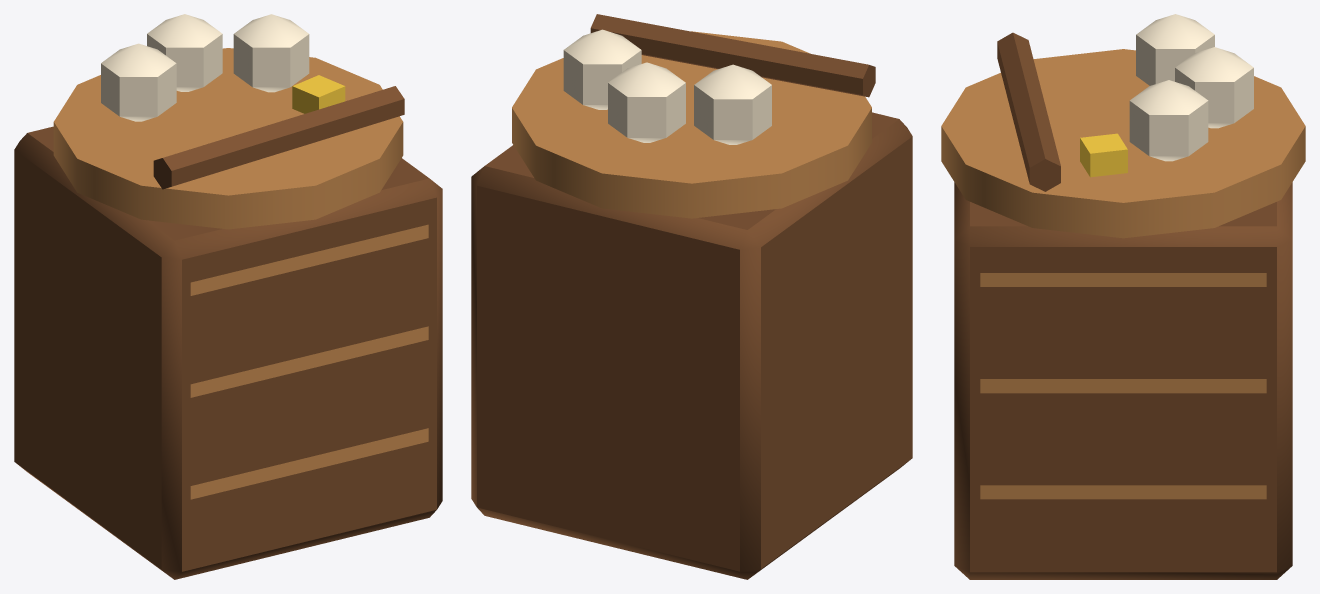
Rendered from prop_kulcha_board.glb.
3 renders of one model, left to right at view 1: azimuth 30°, elevation 25°; view 2: azimuth 150°, elevation 25°; view 3: azimuth 270°, elevation 25°, orthographic. The views are drawn at different scales.
Visible parts, largest first — view 1: prop_kulcha_board; view 2: prop_kulcha_board; view 3: prop_kulcha_board.
Boxes of the visible parts, left/top/right/bottom form: prop_kulcha_board: left=14, top=14, right=442, bottom=579; prop_kulcha_board: left=471, top=14, right=912, bottom=579; prop_kulcha_board: left=941, top=14, right=1305, bottom=579.
Bounding box in the file's own units: 0.28 × 0.397 × 0.28.
1 material, 1 textured.
